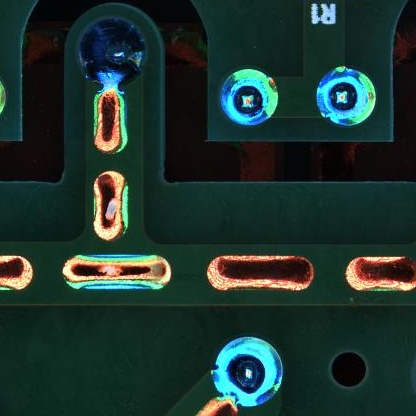spot: (215, 336, 282, 406), (76, 17, 147, 82), (217, 65, 278, 128), (316, 67, 376, 128)
